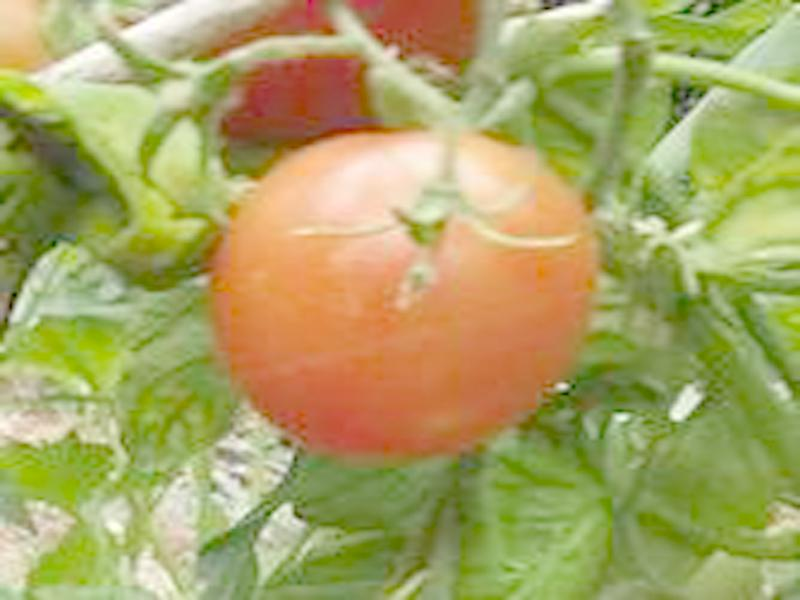Tomato: (216, 128, 594, 450)
